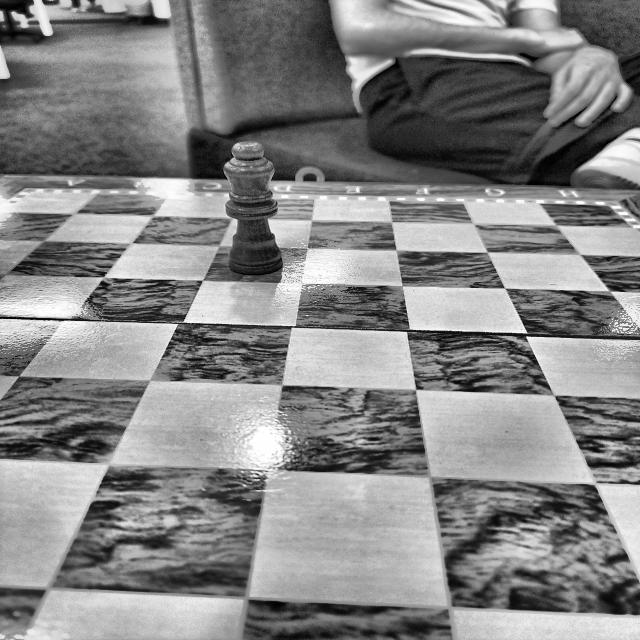black-queen: (222, 142, 283, 274)
